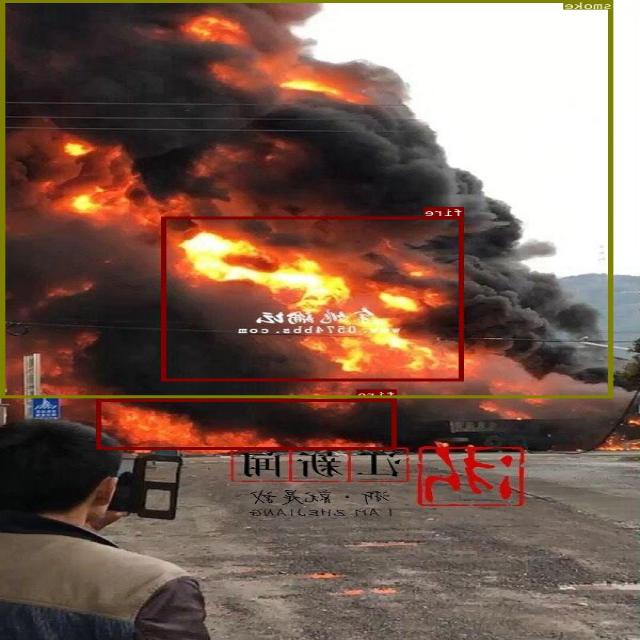fire: (162, 217, 464, 380), (97, 399, 398, 449)
smoke: (2, 0, 615, 397)
